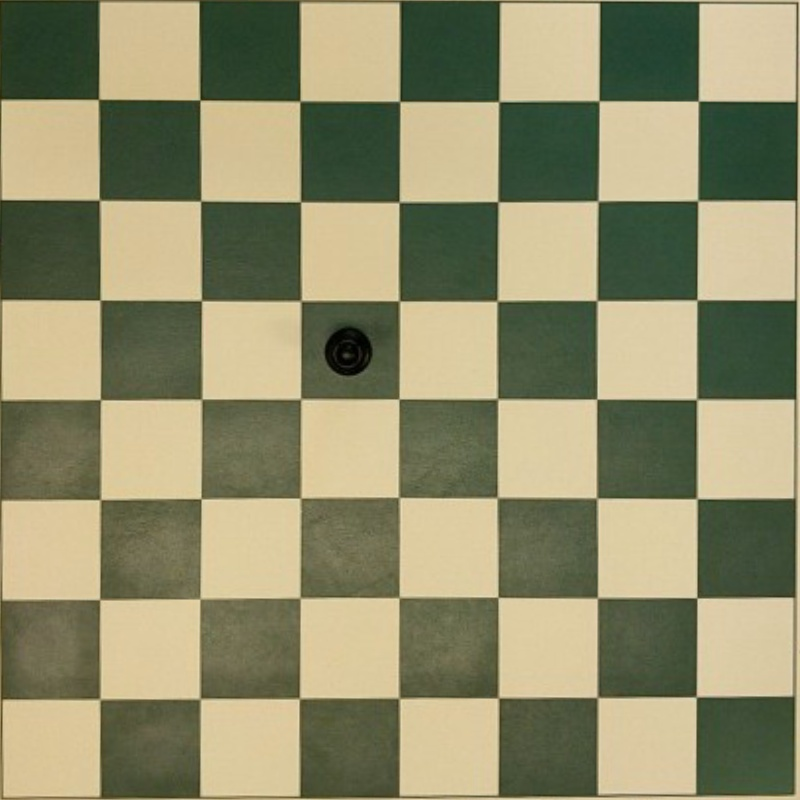black-pawn: (324, 326, 372, 375)
